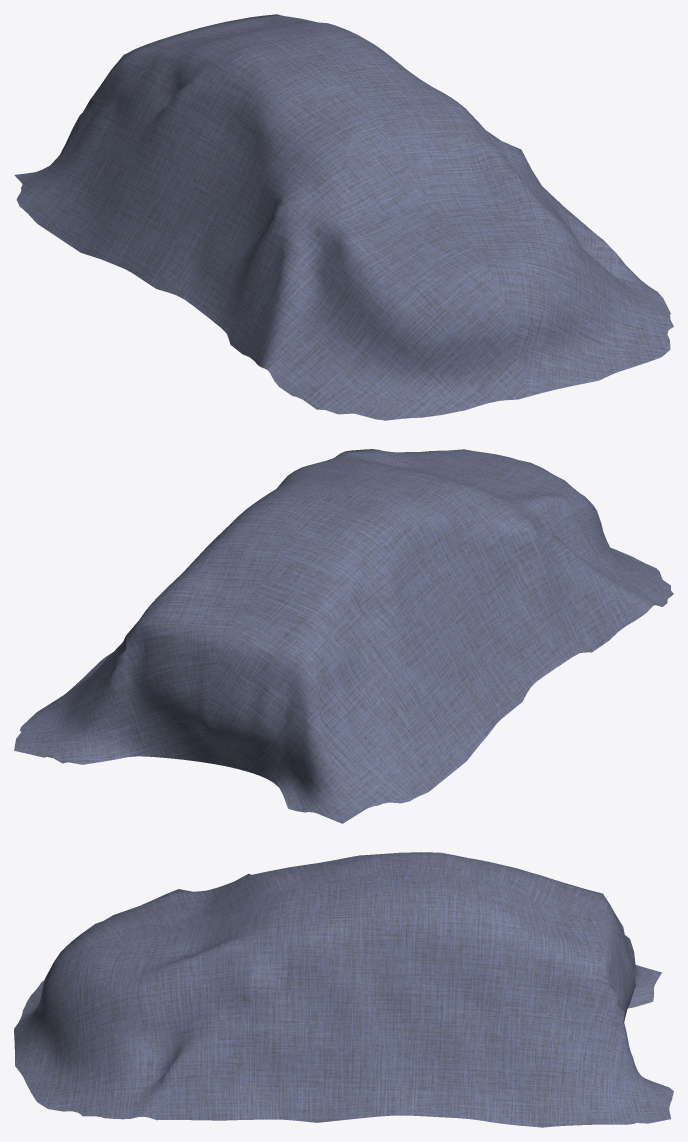
File: covered_car.glb
The picture shows the model from 3 angles, top to bottom: view 1: azimuth 30°, elevation 25°; view 2: azimuth 150°, elevation 25°; view 3: azimuth 270°, elevation 25°; orthographic projection. The views are drawn at different scales.
Parts seen in each view (by area): view 1: coveredCar; view 2: coveredCar; view 3: coveredCar.
Part boxes in pixels (x1,y1,x2,y2): coveredCar: (14,14,673,420); coveredCar: (14,449,673,823); coveredCar: (14,852,673,1127).
Bounding box in the file's own units: 3.6 × 1.69 × 5.98.
Materials: 1 (1 with a texture image).
